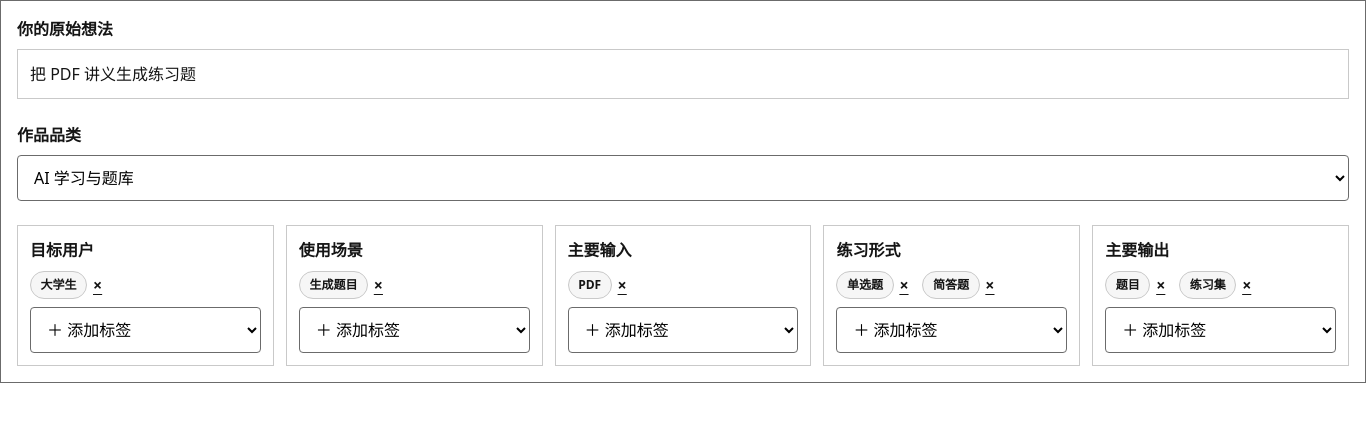
Test: deterministic intent parser › renders editable structured output while preserving the original
The image size is (1366, 437).
Check: the text "把 PDF 讲义生成练习题" is shown, box [17,49,1349,99]
Step 1. Select "学习报告" in the dropdown named "添加主要输出" → {"x": 1221, "y": 330}, box [1105,307,1336,353]
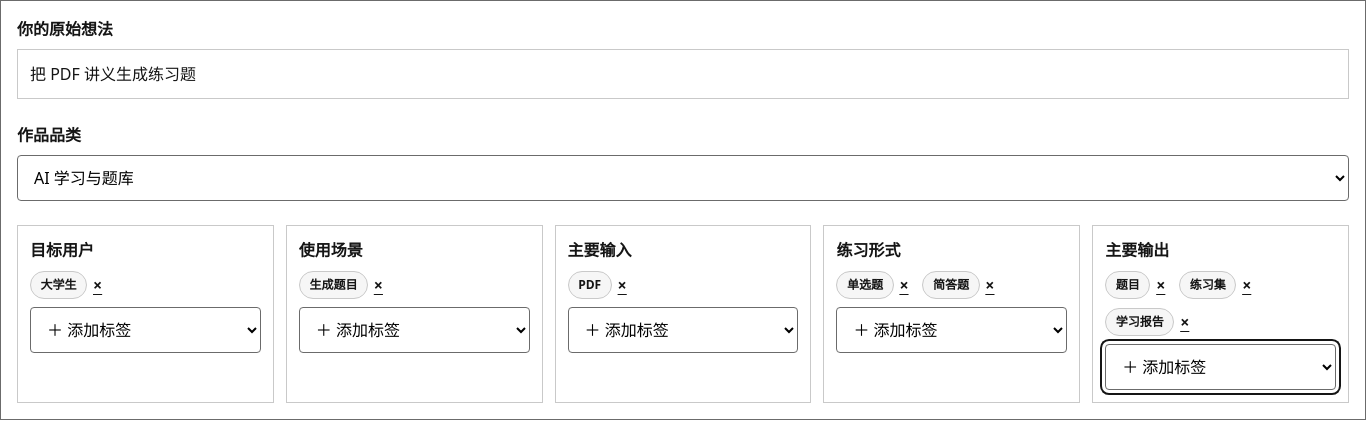
Check: the text "把 PDF 讲义生成练习题" is shown, box [17,49,1349,99]
Check: the text "学习报告" is shown, box [1105,308,1174,336]
